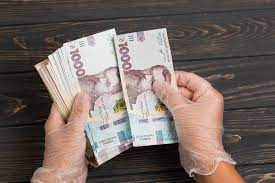bn_1000: (61, 35, 171, 165), (115, 30, 193, 148)
